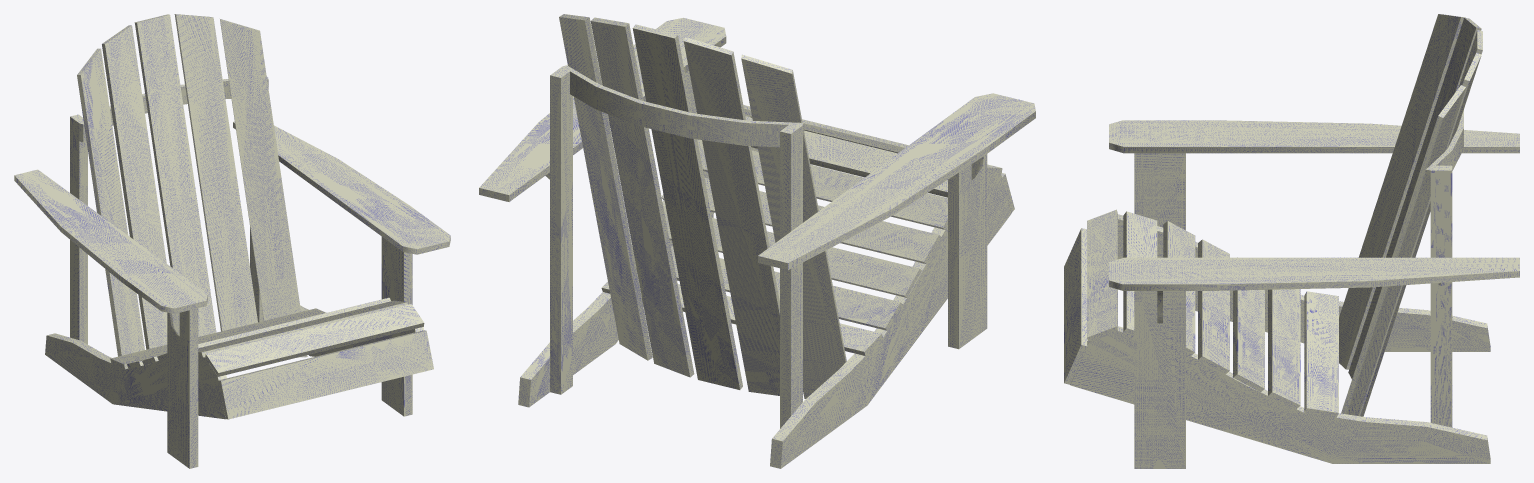
Rendered from Chair_Adirondack_Beach.fbx.
3 views of the same model, side by side, from view 1: azimuth 30°, elevation 25°; view 2: azimuth 150°, elevation 25°; view 3: azimuth 270°, elevation 25° (orthographic). The views are drawn at different scales.
Visible parts, largest first — view 1: chair_half1, chair_half2, chair_arm1, chair_arm, chair_leg1, vertical_support4, bar16, bar8, vertical_support3, bar15, vertical_support2, bar7 (+7 smaller); view 2: chair_half2, chair_half1, chair_arm1, chair_leg1, vertical_support1, vertical_support4, vertical_support3, chair_arm, chair_leg, Group2, bar10, Group1 (+9 smaller); view 3: chair_leg, chair_arm, chair_half2, chair_arm1, vertical_support2, chair_half1, vertical_support1, chair_leg1, vertical_support4, bar1, bar3, bar9 (+14 smaller).
Part boxes in pixels (x1,y1,x2,y2): chair_half1: [152, 14, 307, 357]; chair_half2: [77, 18, 199, 356]; chair_arm1: [14, 169, 207, 313]; chair_arm: [233, 121, 450, 254]; chair_leg1: [45, 333, 226, 419]; vertical_support4: [167, 308, 198, 468]; bar16: [218, 355, 330, 419]; bar8: [322, 330, 433, 394]; vertical_support3: [70, 114, 87, 344]; bar15: [205, 329, 321, 376]; vertical_support2: [381, 237, 412, 416]; bar7: [309, 304, 424, 351]; chair_half2: [654, 29, 846, 398]; chair_half1: [559, 14, 718, 384]; chair_arm1: [758, 93, 1035, 269]; chair_leg1: [770, 173, 1011, 468]; vertical_support1: [550, 67, 572, 394]; vertical_support4: [948, 154, 987, 349]; vertical_support3: [780, 123, 802, 428]; chair_arm: [479, 17, 726, 201]; chair_leg: [518, 115, 758, 407]; Group2: [664, 107, 803, 147]; bar10: [826, 247, 921, 297]; Group1: [562, 65, 666, 131]; chair_leg: [1070, 326, 1490, 463]; chair_arm: [1109, 257, 1519, 290]; chair_half2: [1339, 14, 1482, 378]; chair_arm1: [1109, 120, 1519, 153]; vertical_support2: [1134, 291, 1185, 468]; chair_half1: [1341, 39, 1482, 416]; vertical_support1: [1430, 165, 1452, 427]; chair_leg1: [1118, 214, 1490, 351]; vertical_support4: [1134, 153, 1185, 230]; bar1: [1304, 349, 1338, 417]; bar3: [1268, 333, 1300, 408]; bar9: [1304, 291, 1338, 354].
Size of the model in its own units: 0.9765 by 1.02 by 1.15.
